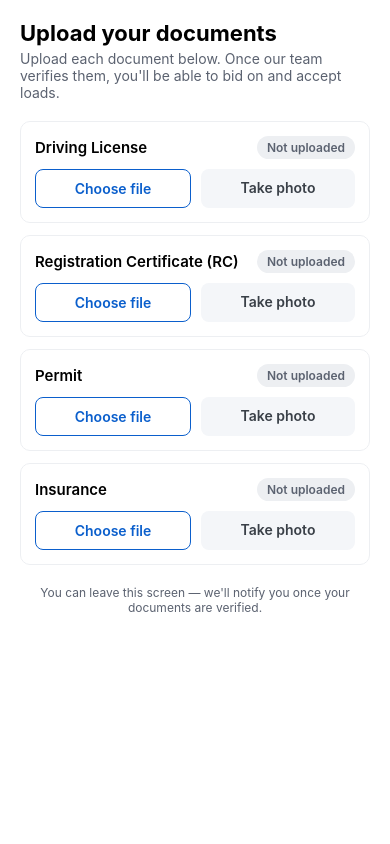
DocumentUploadScreen › reverts to not_uploaded and shows a row error when the upload fails
This screenshot has width=390, height=844.
Step 1. Click the button with test id "upload-button-insurance" → (113, 530), box [35, 511, 191, 550]
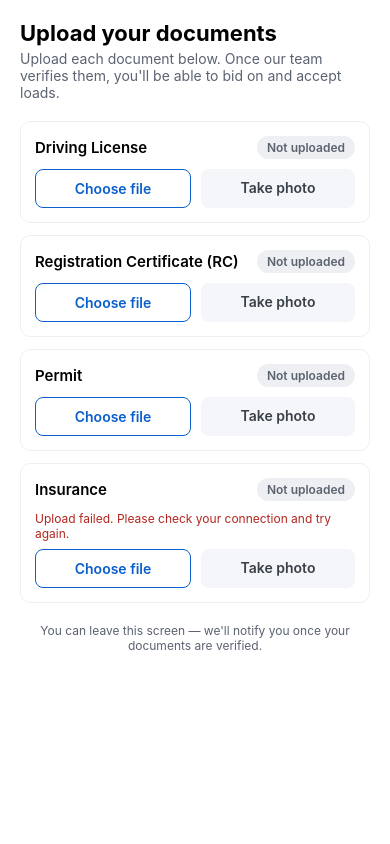
Expected: the element with test id "document-status-badge-not_uploaded" next to "Insurance" is shown, [257, 478, 355, 501]
Now the text "Upload failed. Please check your connection and try again." is shown, box [35, 511, 355, 541]
